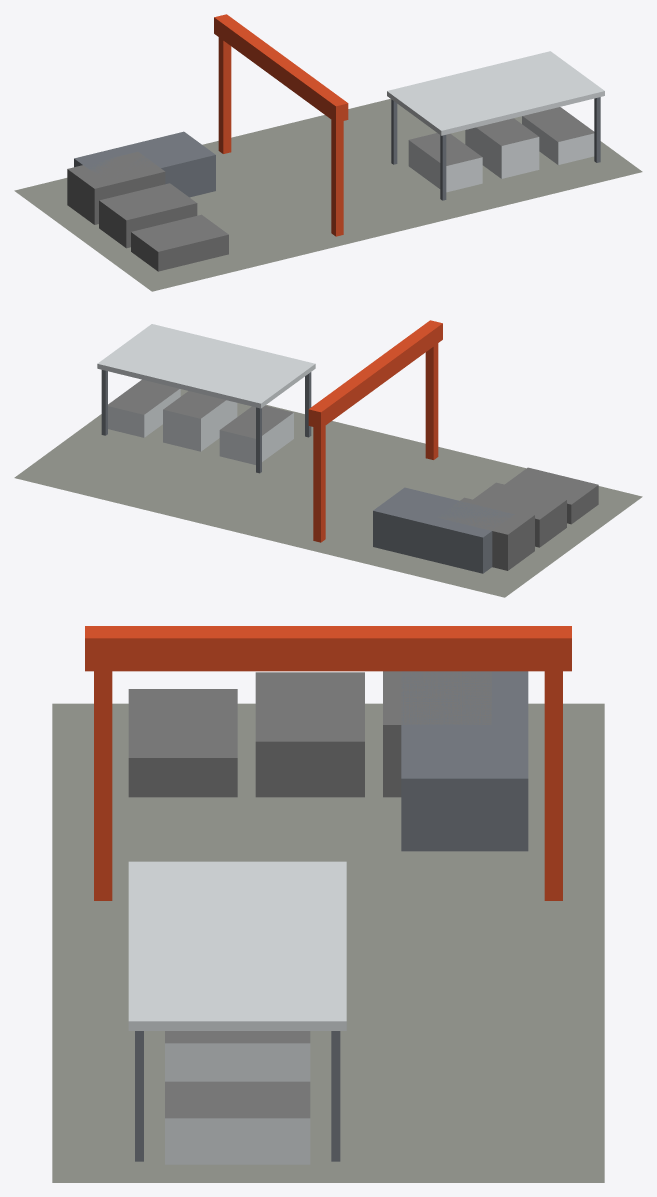
The model's file is mashup-steel-far.fbx.
3 views of the same model, one above another, from view 1: azimuth 30°, elevation 25°; view 2: azimuth 150°, elevation 25°; view 3: azimuth 270°, elevation 25° (orthographic). The views are drawn at different scales.
Parts seen in each view (by area): view 1: a1082/0/mashup-steel-far; view 2: a1082/0/mashup-steel-far; view 3: a1082/0/mashup-steel-far.
Part boxes in pixels (left/top/right/bottom): a1082/0/mashup-steel-far: left=14, top=14, right=642, bottom=291; a1082/0/mashup-steel-far: left=14, top=320, right=642, bottom=597; a1082/0/mashup-steel-far: left=52, top=626, right=604, bottom=1182.
Size of the model in its own units: 31.2 by 8.05 by 15.2.
